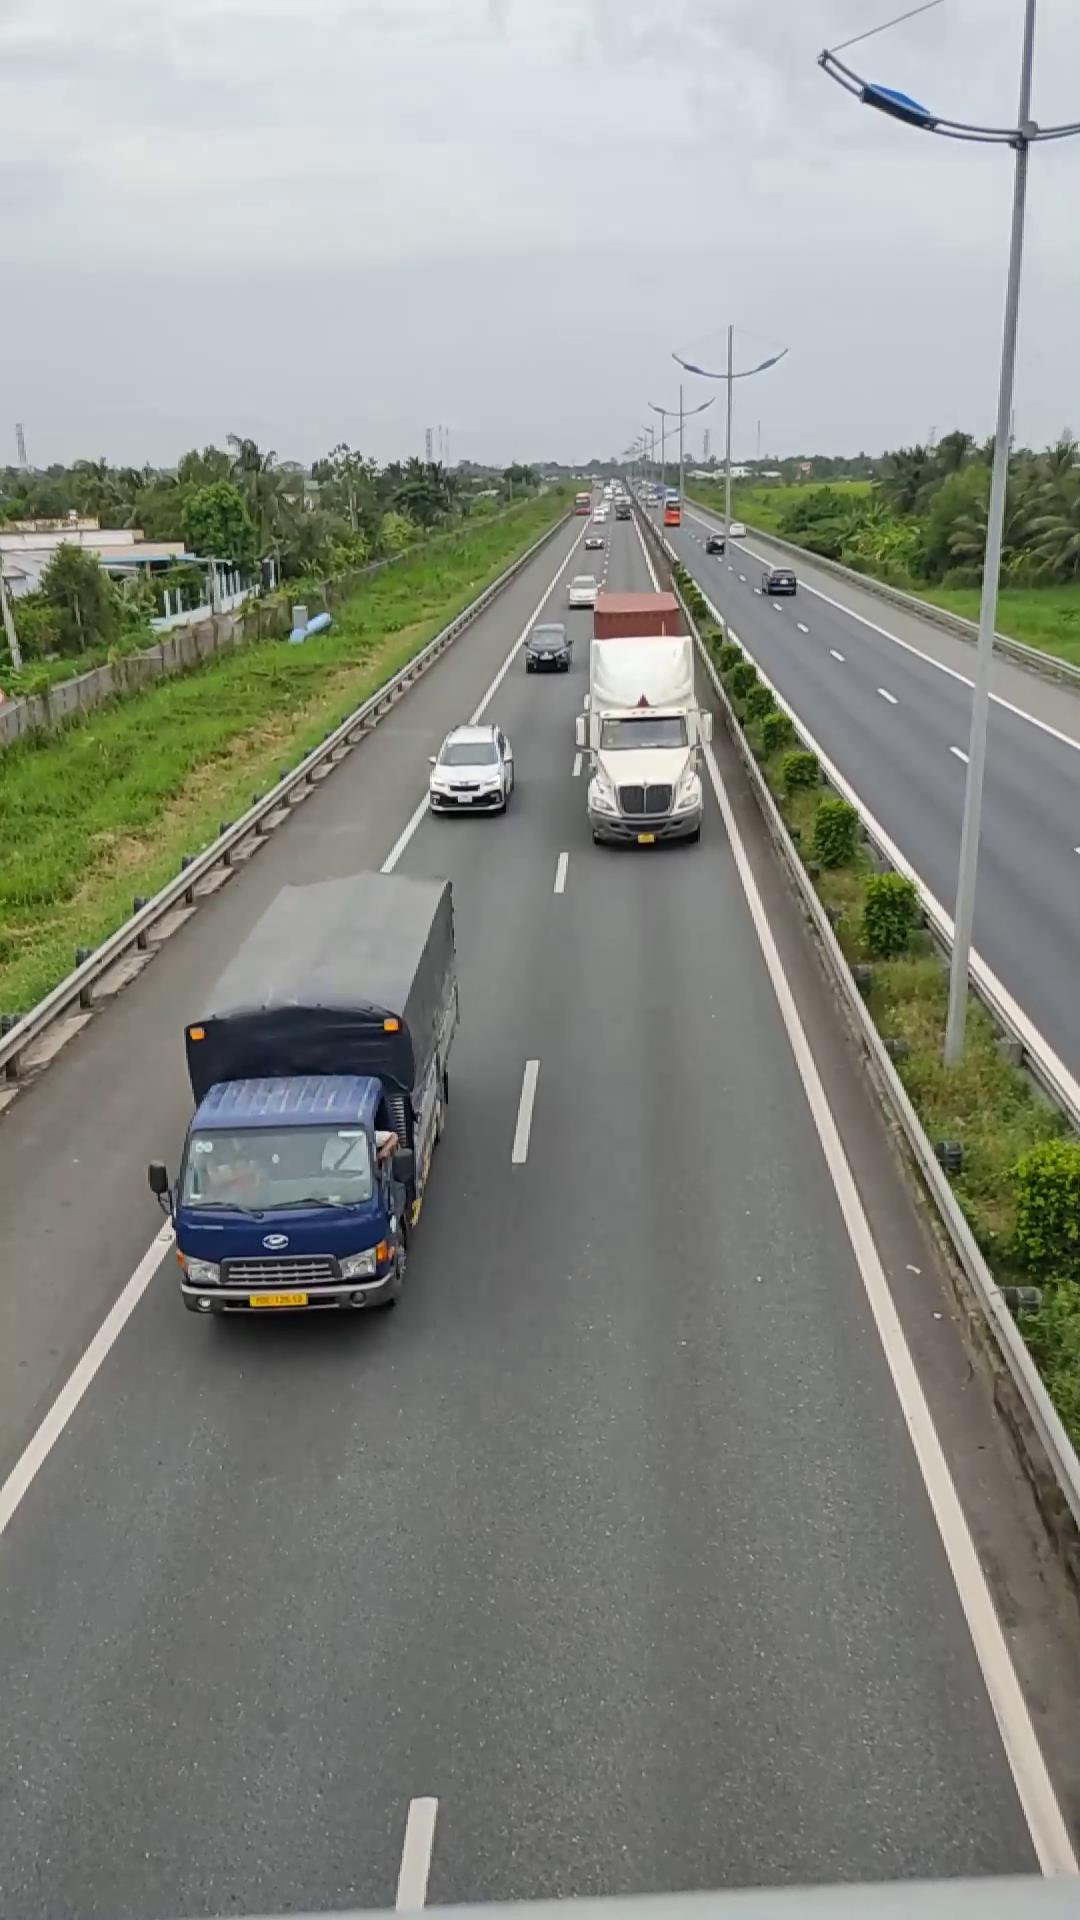car: (426, 723, 516, 815)
container: (575, 582, 705, 846)
truck: (163, 866, 464, 1319)
